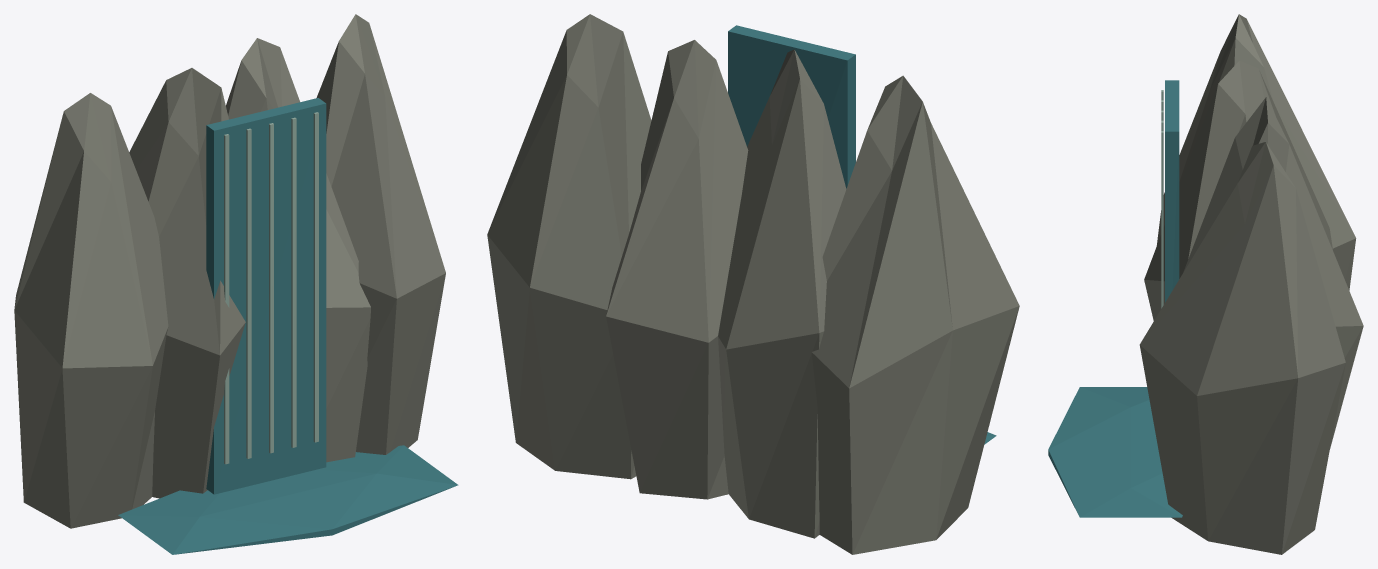
The model's file is waterfall-far.glb.
3 views of the same model, side by side, from view 1: azimuth 30°, elevation 25°; view 2: azimuth 150°, elevation 25°; view 3: azimuth 270°, elevation 25° (orthographic). The views are drawn at different scales.
Visible parts, largest first — view 1: world-scenery/waterfall-far; view 2: world-scenery/waterfall-far; view 3: world-scenery/waterfall-far.
Boxes of the visible parts, <box> form: world-scenery/waterfall-far: <box>14,14,458,554</box>; world-scenery/waterfall-far: <box>487,14,1019,554</box>; world-scenery/waterfall-far: <box>1048,14,1363,554</box>.
Bounding box in the file's own units: 3.81 × 3.5 × 2.6.
